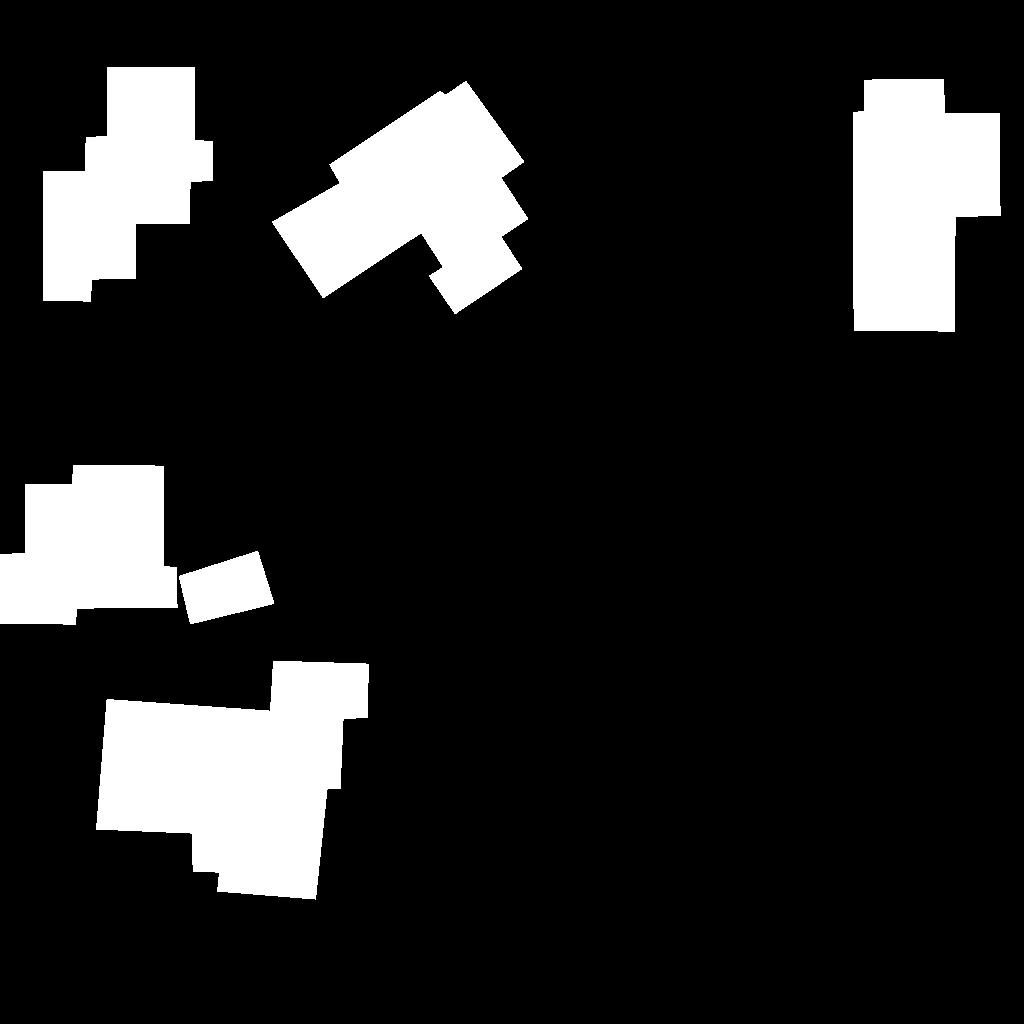building: (96, 661, 370, 900), (272, 81, 529, 315), (43, 67, 213, 302), (853, 79, 1001, 332), (0, 465, 178, 625), (179, 551, 275, 625)
